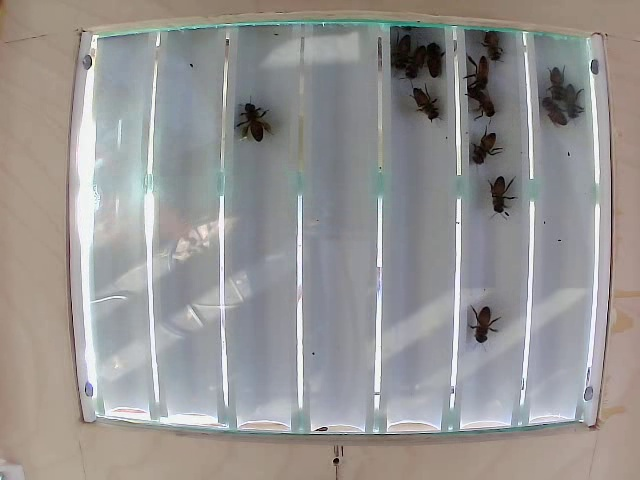bee: (412, 84, 450, 137), (237, 104, 280, 144), (467, 305, 499, 358), (475, 26, 516, 67), (471, 127, 501, 179), (486, 167, 511, 219), (467, 88, 502, 123), (422, 41, 448, 83), (546, 62, 571, 101), (388, 37, 417, 69), (542, 101, 566, 137), (566, 82, 584, 126), (472, 62, 494, 94), (406, 43, 425, 78)
